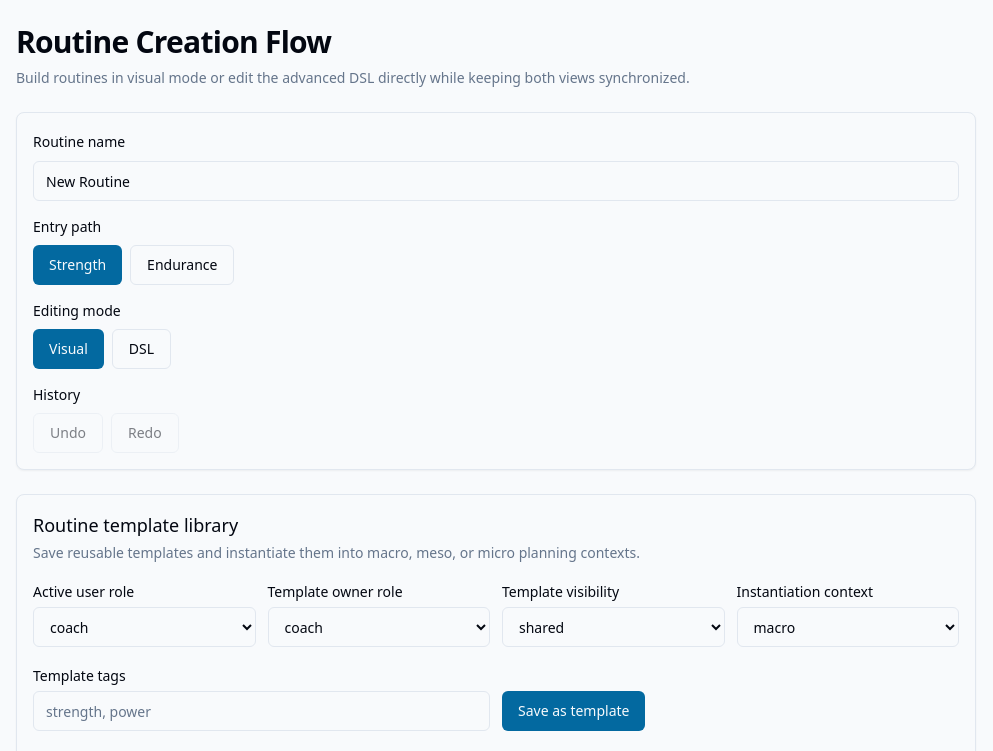
RoutineCreationFlow › indicates syntax highlighting and autocomplete support in DSL mode
The width and height of the screenshot is (993, 751).
Click the button "DSL". click: [141, 349]
box: [112,329,171,369]
(page scrolled)
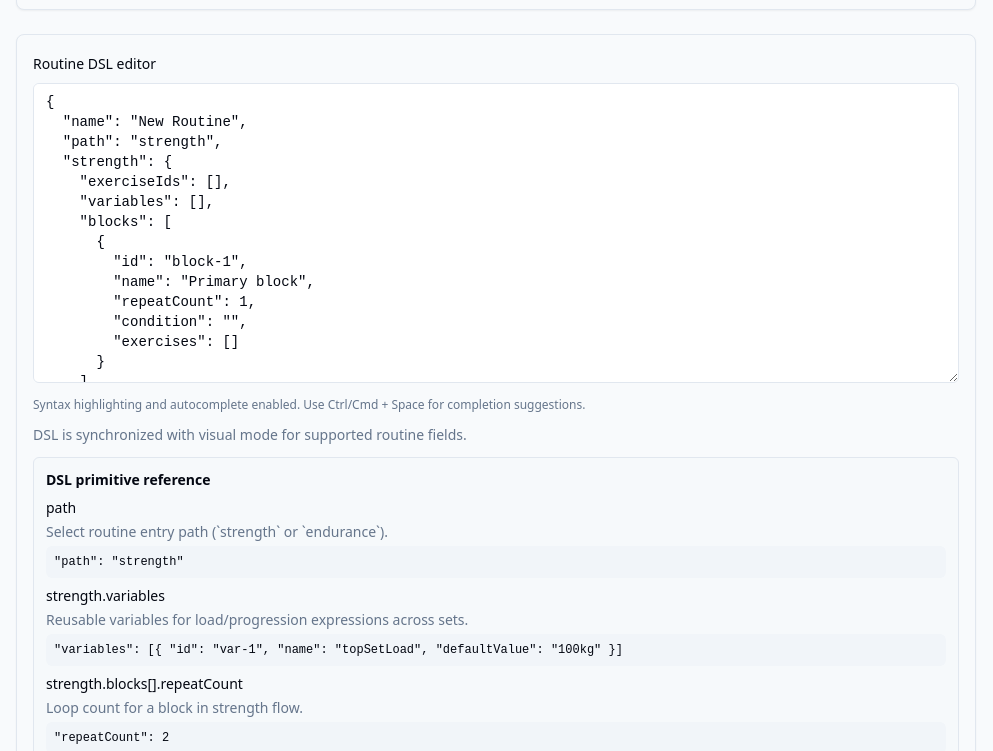
Check: the text "Syntax highlighting and autocomplete enabled" is shown, box [33,396,585,413]
